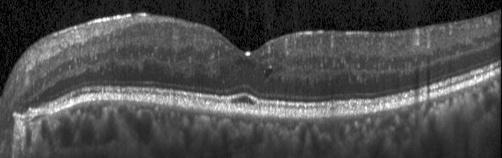intraretinal_cyst: (265, 68, 272, 79)
